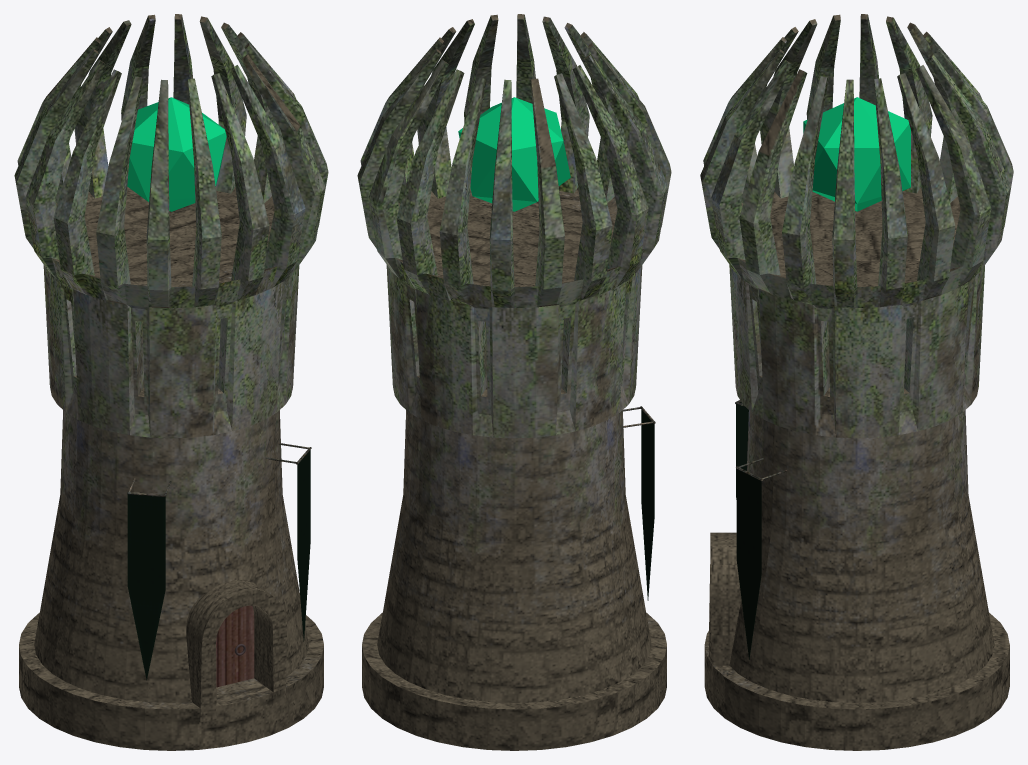
Rendered from WizardTower.fbx.
3 renders of one model, left to right at view 1: azimuth 30°, elevation 25°; view 2: azimuth 150°, elevation 25°; view 3: azimuth 270°, elevation 25°, orthographic.
Parts seen in each view (by area): view 1: BASE, Arc, Crystal_Ball, Plane, Door, Plane_2; view 2: BASE, Crystal_Ball, Plane; view 3: BASE, Crystal_Ball, Arc, Plane_2, Plane.
Part boxes in pixels (x1,y1,x2,y2): BASE: [14, 14, 328, 750]; Arc: [186, 580, 286, 721]; Crystal_Ball: [127, 97, 226, 211]; Plane: [127, 494, 165, 680]; Door: [216, 605, 254, 687]; Plane_2: [297, 450, 310, 641]; BASE: [357, 14, 671, 750]; Crystal_Ball: [458, 97, 570, 211]; Plane: [641, 409, 654, 600]; BASE: [700, 14, 1013, 750]; Crystal_Ball: [803, 97, 910, 211]; Arc: [708, 532, 741, 678]; Plane_2: [736, 469, 761, 659]; Plane: [736, 402, 748, 499].
Bounding box in the file's own units: 103 × 231 × 103.
1 material, 1 textured.
